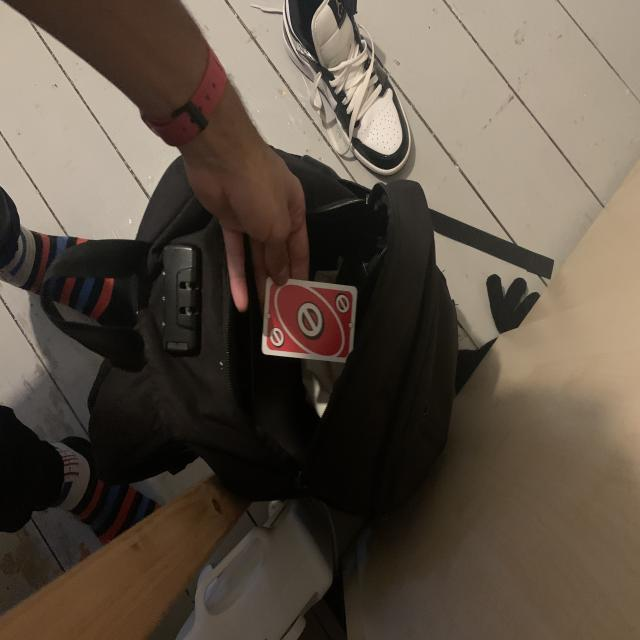lredskip-20: (266, 326, 288, 353)
